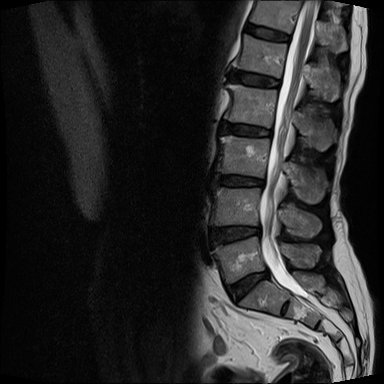Lumbar Disc Bulge (LDB): (220, 261, 275, 310), (202, 219, 265, 251), (209, 170, 270, 192)
Normal IVD: (221, 62, 286, 95), (235, 19, 296, 47), (216, 116, 280, 142)
Spinal Stenosis (SS): (249, 217, 267, 242), (259, 263, 275, 287), (255, 170, 270, 193)
